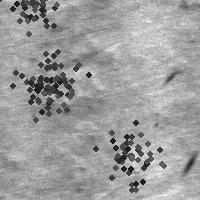rolled-in_scale: (3, 34, 91, 122), (87, 111, 171, 195), (26, 47, 95, 114), (0, 0, 73, 46)
